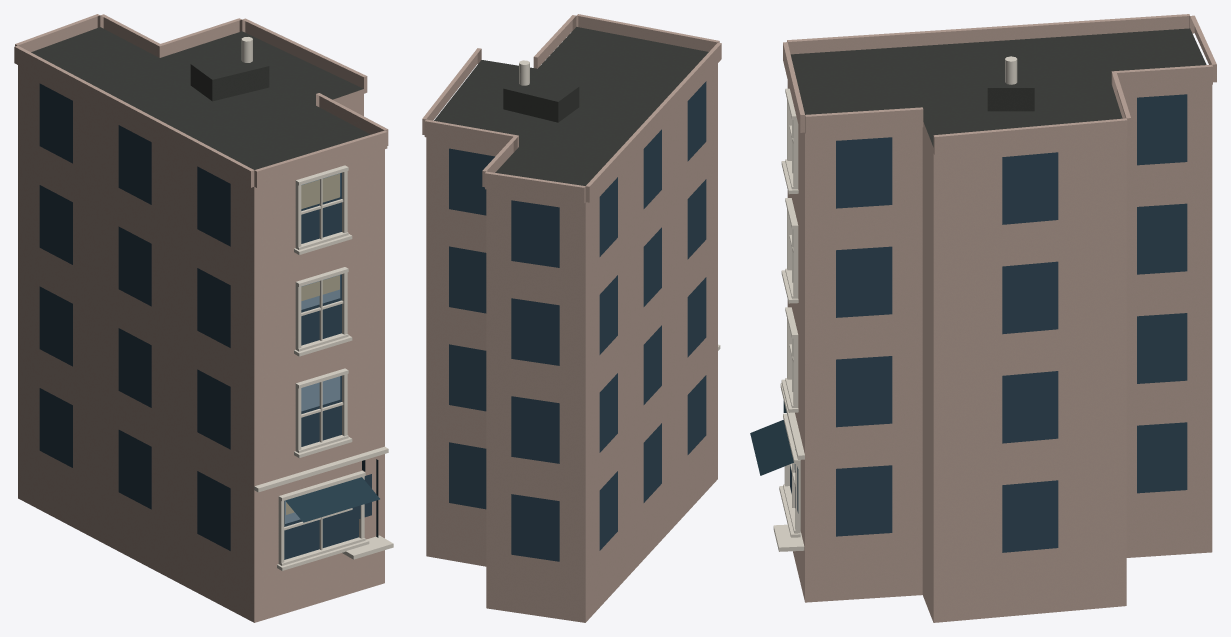
3 renders of one model, left to right at view 1: azimuth 30°, elevation 25°; view 2: azimuth 150°, elevation 25°; view 3: azimuth 270°, elevation 25°, orthographic. The views are drawn at different scales.
Visible parts, largest first — view 1: Footprint 0 / surface 2, Inset glazing, Footprint 0 / surface 1, Facade bay volumes, Cornices and window frames, Storefronts and doors, Interior blind variation, Sky reflection panels, Inferred rooftop service enclosure / surface 5, Inferred rooftop service enclosure / surface 3; view 2: Footprint 0 / surface 2, Inset glazing, Footprint 0 / surface 1, Facade bay volumes, Inferred rooftop service enclosure / surface 6, Inferred rooftop service enclosure / surface 3, Inferred rooftop service enclosure / surface 2; view 3: Footprint 0 / surface 2, Inset glazing, Footprint 0 / surface 1, Facade bay volumes, Cornices and window frames, Storefronts and doors, Inferred rooftop service enclosure / surface 1, Inferred rooftop service enclosure / surface 3.
Boxes of the visible parts, x1=… form: Footprint 0 / surface 2: x1=18, y1=65, x2=384, y2=622; Inset glazing: x1=39, y1=83, x2=371, y2=559; Footprint 0 / surface 1: x1=31, y1=27, x2=370, y2=169; Facade bay volumes: x1=14, y1=14, x2=388, y2=187; Cornices and window frames: x1=254, y1=165, x2=393, y2=570; Storefronts and doors: x1=285, y1=459, x2=379, y2=537; Interior blind variation: x1=286, y1=173, x2=339, y2=514; Sky reflection panels: x1=285, y1=173, x2=340, y2=523; Inferred rooftop service enclosure / surface 5: x1=212, y1=66, x2=269, y2=101; Inferred rooftop service enclosure / surface 3: x1=191, y1=51, x2=268, y2=79; Footprint 0 / surface 2: x1=426, y1=63, x2=717, y2=622; Inset glazing: x1=449, y1=81, x2=706, y2=561; Footprint 0 / surface 1: x1=434, y1=27, x2=708, y2=185; Facade bay volumes: x1=422, y1=14, x2=721, y2=203; Inferred rooftop service enclosure / surface 6: x1=503, y1=88, x2=558, y2=122; Inferred rooftop service enclosure / surface 3: x1=503, y1=74, x2=578, y2=101; Inferred rooftop service enclosure / surface 2: x1=558, y1=87, x2=579, y2=122; Footprint 0 / surface 2: x1=787, y1=80, x2=1212, y2=622; Inset glazing: x1=790, y1=94, x2=1187, y2=552; Footprint 0 / surface 1: x1=790, y1=28, x2=1206, y2=147; Facade bay volumes: x1=783, y1=14, x2=1216, y2=154; Cornices and window frames: x1=773, y1=88, x2=804, y2=551; Storefronts and doors: x1=750, y1=401, x2=795, y2=475; Inferred rooftop service enclosure / surface 1: x1=987, y1=88, x2=1034, y2=111; Inferred rooftop service enclosure / surface 3: x1=987, y1=58, x2=1034, y2=87.
Bounding box in the file's own units: 7.41 × 14.63 × 11.87.
